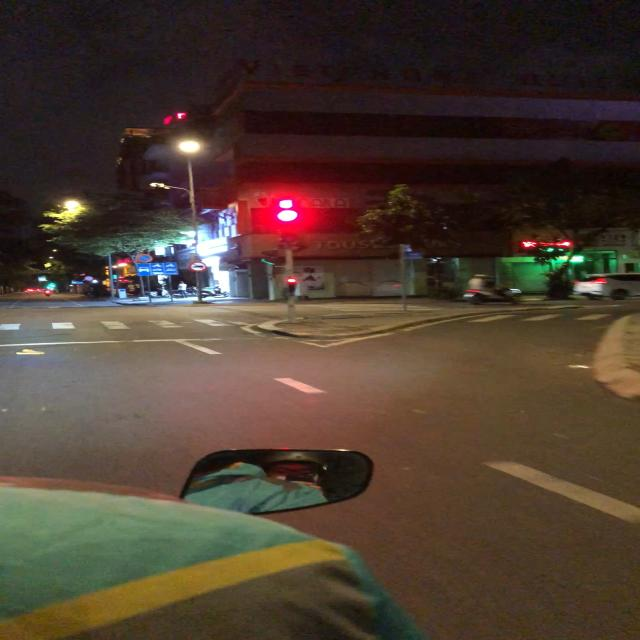Bien bao cam xe so-mi ro-mooc: (187, 258, 213, 274)
